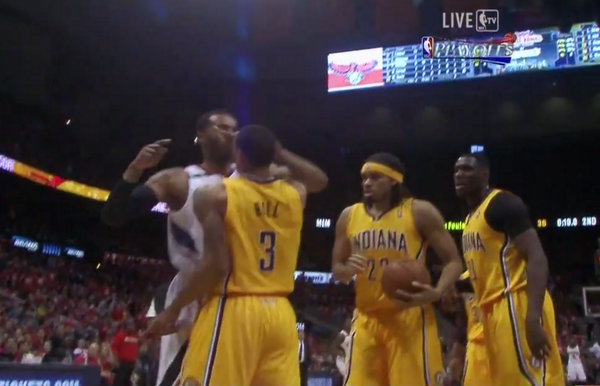player: (149, 126, 329, 386), (101, 112, 238, 386), (330, 147, 460, 386), (454, 153, 560, 386)
